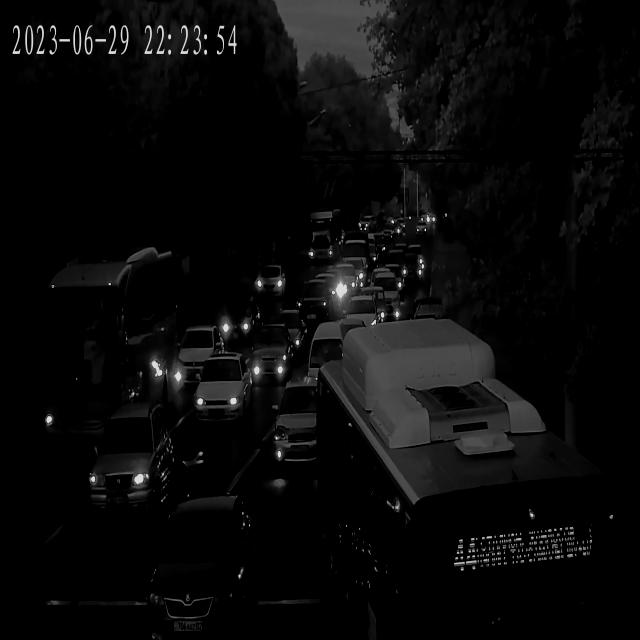Bus: (319, 324, 620, 640), (41, 249, 178, 456), (310, 208, 342, 261)
Car: (138, 496, 261, 640), (84, 404, 178, 534), (191, 357, 251, 432), (272, 381, 318, 473), (181, 328, 235, 397), (261, 310, 308, 364), (238, 340, 294, 385), (247, 326, 296, 370), (290, 279, 336, 325), (217, 302, 260, 347), (342, 296, 387, 338), (314, 266, 357, 305), (356, 290, 399, 326), (306, 274, 348, 310), (384, 248, 422, 286), (368, 270, 405, 309), (377, 263, 413, 296), (257, 268, 290, 300)
